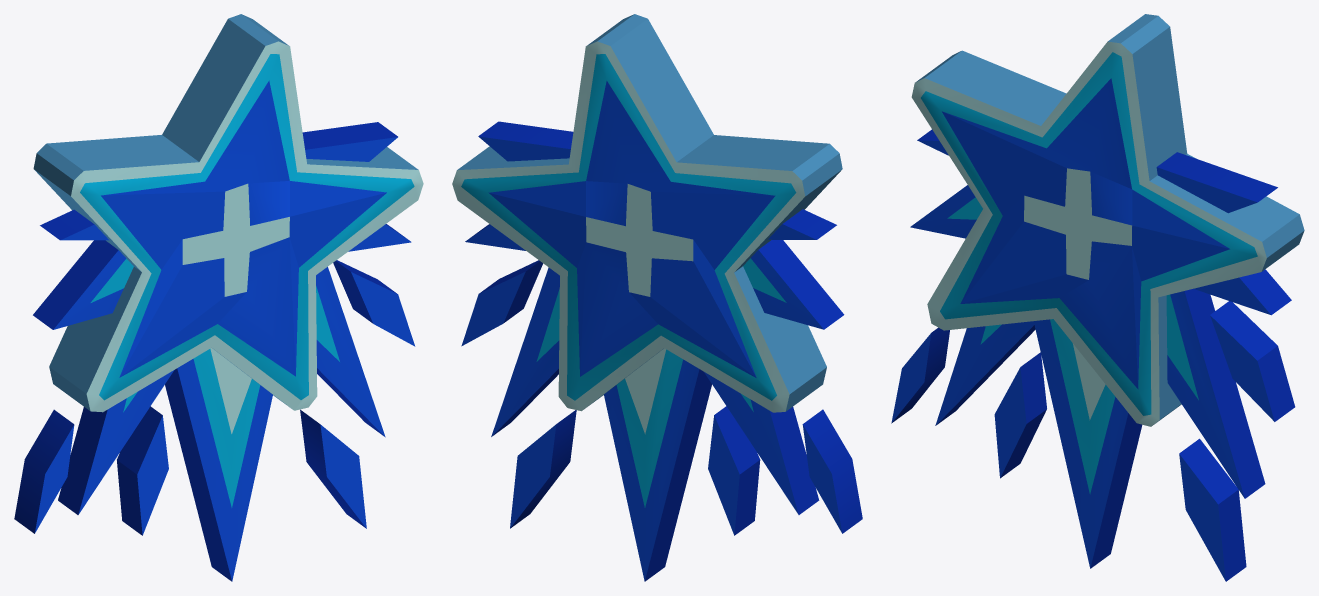
The model's file is ScoreBoosterIcon.glb.
3 views of the same model, side by side, from view 1: azimuth 30°, elevation 25°; view 2: azimuth 150°, elevation 25°; view 3: azimuth 330°, elevation 25° (orthographic).
Parts seen in each view (by area): view 1: ScoreBoosterIcon; view 2: ScoreBoosterIcon; view 3: ScoreBoosterIcon.
Part boxes in pixels (left/top/right/bottom): ScoreBoosterIcon: left=14, top=14, right=423, bottom=581; ScoreBoosterIcon: left=452, top=14, right=862, bottom=581; ScoreBoosterIcon: left=891, top=14, right=1304, bottom=581.
Size of the model in its own units: 5.93 by 7.99 by 1.01.
1 material, 1 textured.
